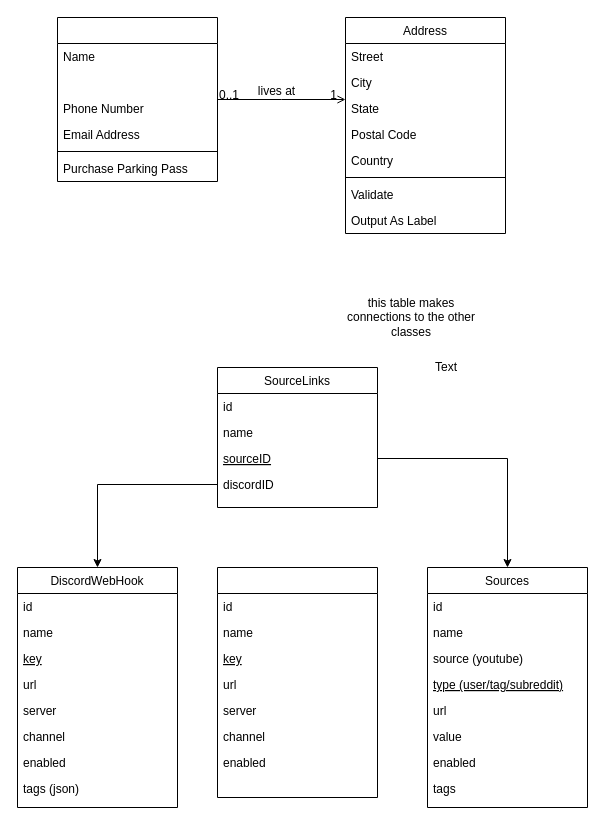
This 605x825 diagram has some shape labels left out. Each missing label, with the box of its shape:
Email: (216, 566, 378, 798)
Person: (56, 16, 218, 182)
